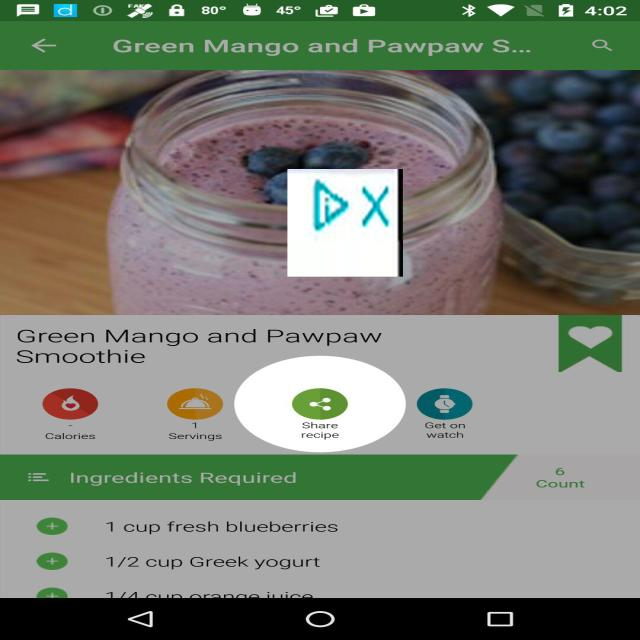sneaking: (287, 169, 403, 277)
